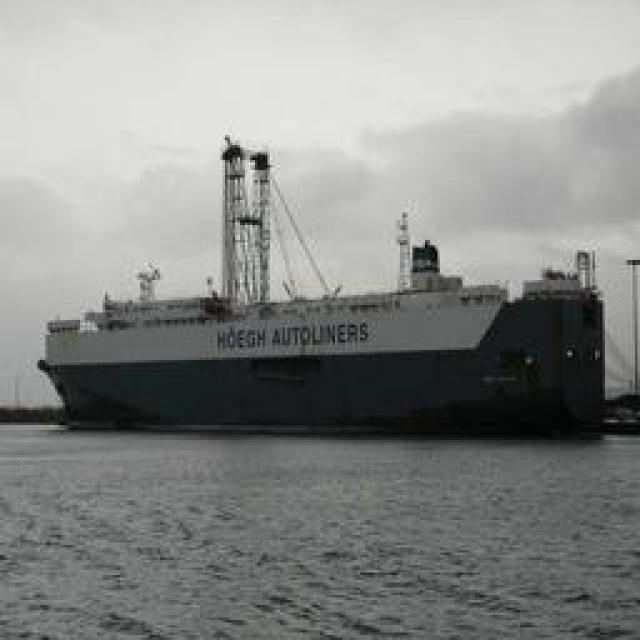Ship: (35, 139, 605, 434)
